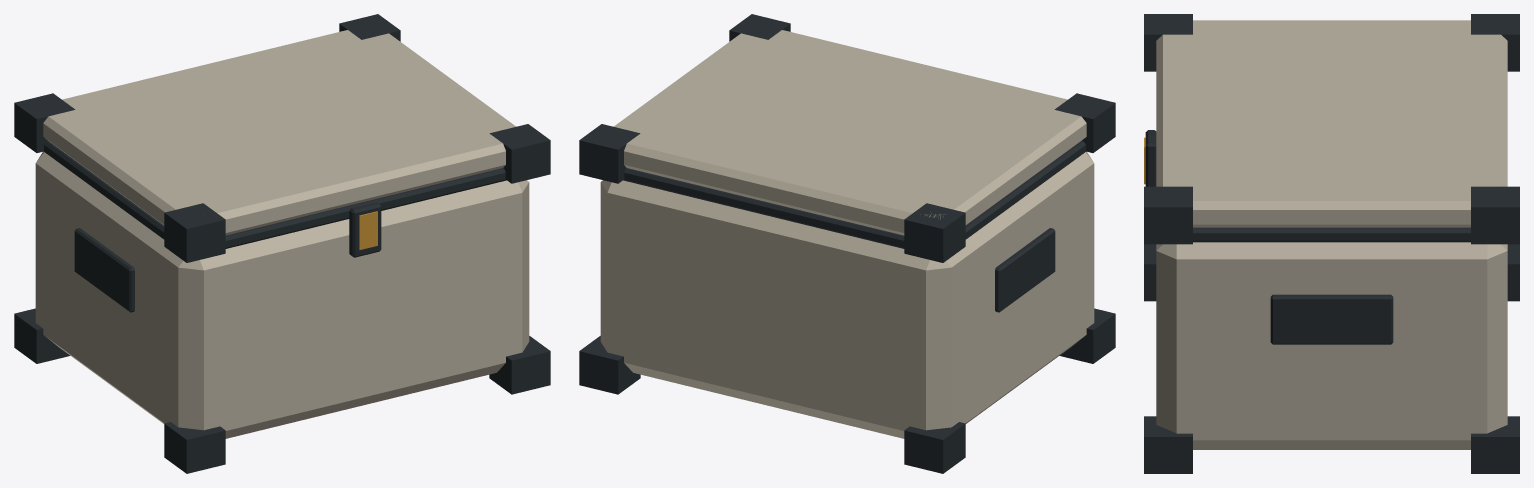
Rendered from crate_d0_lod2.meshopt.glb.
The picture shows the model from 3 angles, left to right: view 1: azimuth 30°, elevation 25°; view 2: azimuth 150°, elevation 25°; view 3: azimuth 270°, elevation 25°; orthographic projection. The views are drawn at different scales.
Visible parts, largest first — view 1: CRATE_STATIC_SURFACE; view 2: CRATE_STATIC_SURFACE; view 3: CRATE_STATIC_SURFACE.
Part boxes in pixels (<box>): CRATE_STATIC_SURFACE: <box>14,14,550,473</box>; CRATE_STATIC_SURFACE: <box>579,14,1115,473</box>; CRATE_STATIC_SURFACE: <box>1144,14,1519,473</box>.
Size of the model in its own units: 0.56 by 0.36 by 0.46.
